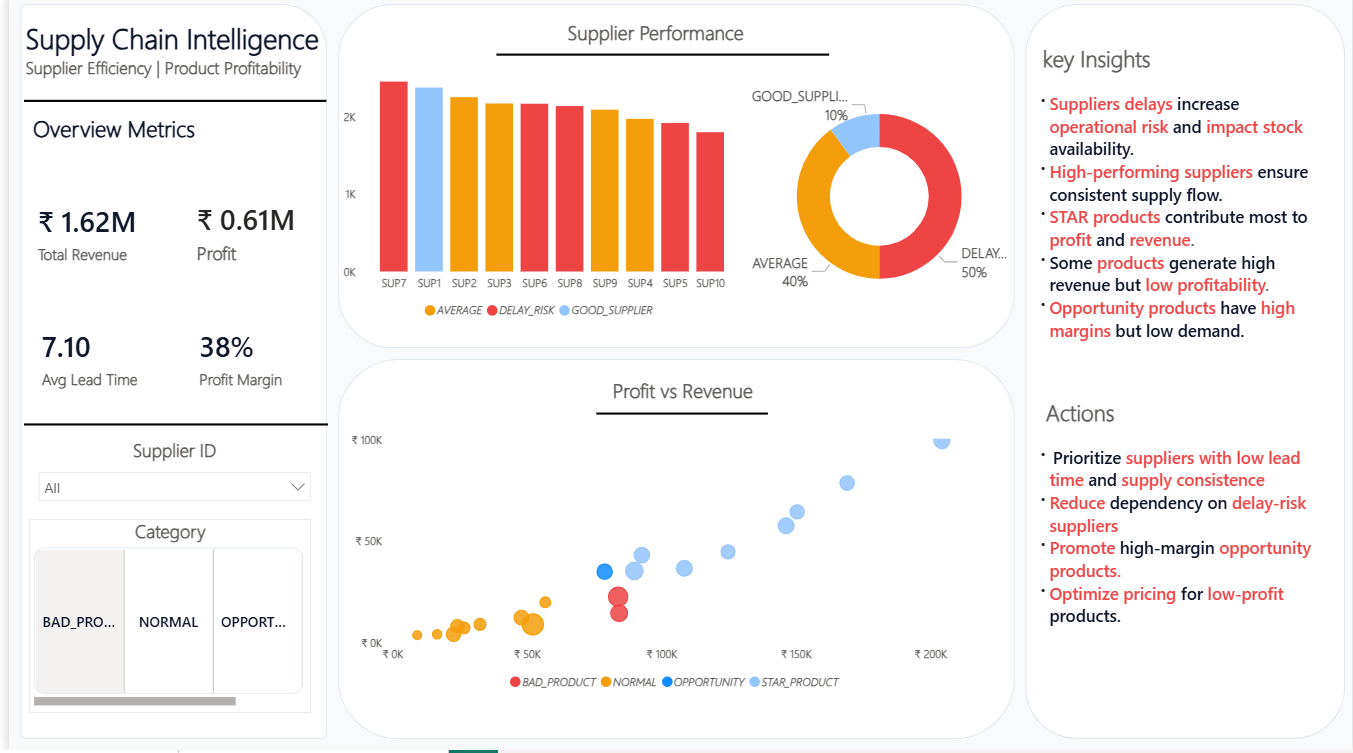

What the dashboard file says about the page in this screenshot:
{"tool":"powerbi","page":{"name":"Supplier and profit performance","canvas":[1280,720],"ordinal":1},"visuals":[{"type":"shape","box":[11,9.6,292.3,699.8],"z":0},{"type":"textbox","box":[10.7,19,291.7,76.2],"z":1000},{"type":"shape","box":[312.9,9.6,644.9,328],"z":2000},{"type":"shape","box":[312.9,347.2,644.9,362.3],"z":3000},{"type":"shape","box":[967.4,9.6,304.6,699.8],"z":4000},{"type":"cardVisual","fields":{"Data":["sales.TotalRevenue"]},"box":[11,173.5,144.5,107.4],"z":5000},{"type":"cardVisual","fields":{"Data":["sales.Profit"]},"box":[162.4,173.5,139,107.4],"z":6000},{"type":"cardVisual","fields":{"Data":["Query1.Avg Lead Time"]},"box":[13.8,293.2,144.5,107.4],"z":7000},{"type":"cardVisual","fields":{"Data":["Query1.Profit Margin %"]},"box":[163.8,293.2,137.7,107.4],"z":8000},{"type":"shape","box":[14.3,95.2,288.1,13.1],"z":9000},{"type":"textbox","box":[17.9,108.3,284.5,40.5],"z":10000},{"type":"columnChart","title":"Stock Coverage","fields":{"Category":["suppliers.supplier_id"],"Y":["Query1.TotalPurchase"],"Series":["suppliers.Performance Flag"]},"box":[312.9,67.2,387,252.5],"z":11000},{"type":"donutChart","fields":{"Y":["CountNonNull(suppliers.supplier_id)"],"Category":["suppliers.Performance Flag"]},"box":[699.8,67.2,258,252.5],"z":12000},{"type":"textbox","box":[336.2,19.2,565.4,38.4],"z":15000},{"type":"shape","box":[463.8,49.4,317,17.8],"z":16000},{"type":"textbox","box":[357.3,359.5,565.4,38.4],"z":17000},{"type":"shape","box":[559.9,389.7,163.3,20.6],"z":18000},{"type":"textbox","box":[967.9,378.6,303.6,259.5],"z":19000},{"type":"shape","box":[13.7,397.9,289.5,24.7],"z":20000},{"type":"textbox","box":[967.9,41.7,292.9,319],"z":21000},{"type":"slicer","title":"Supplier ID","fields":{"Values":["suppliers.supplier_id"]},"box":[17.9,422.6,279.8,77.4],"z":22000},{"type":"advancedSlicerVisual","title":"Category","fields":{"Values":["Query1.category"]},"box":[19.2,499.5,269,185.2],"z":23000},{"type":"scatterChart","fields":{"Y":["sales.Profit"],"Size":["sales.Total Sales Qty"],"Series":["Query1.category"],"X":["sales.TotalRevenue"],"Category":["products.product_id"]},"box":[321.1,410.3,628.5,262.1],"z":23001}]}

Visuals, with their boxes in screenshot pixels (x1, y1, x2, y2), scaled from the page's 1280x720 canvas onto the 1353x753 screenshot:
shape: detection(12, 10, 321, 742)
textbox: detection(11, 20, 320, 100)
shape: detection(331, 10, 1012, 353)
shape: detection(331, 363, 1012, 742)
shape: detection(1023, 10, 1345, 742)
cardVisual - sales.TotalRevenue: detection(12, 181, 164, 294)
cardVisual - sales.Profit: detection(172, 181, 319, 294)
cardVisual - Query1.Avg Lead Time: detection(15, 307, 167, 419)
cardVisual - Query1.Profit Margin %: detection(173, 307, 319, 419)
shape: detection(15, 100, 320, 113)
textbox: detection(19, 113, 320, 156)
"Stock Coverage" columnChart: detection(331, 70, 740, 334)
donutChart - CountNonNull(suppliers.supplier_id) x suppliers.Performance Flag: detection(740, 70, 1012, 334)
textbox: detection(355, 20, 953, 60)
shape: detection(490, 52, 825, 70)
textbox: detection(378, 376, 975, 416)
shape: detection(592, 408, 764, 429)
textbox: detection(1023, 396, 1344, 667)
shape: detection(14, 416, 320, 442)
textbox: detection(1023, 44, 1333, 377)
"Supplier ID" slicer: detection(19, 442, 315, 523)
"Category" advancedSlicerVisual: detection(20, 522, 305, 716)
scatterChart - sales.Profit x sales.Total Sales Qty: detection(339, 429, 1004, 703)
